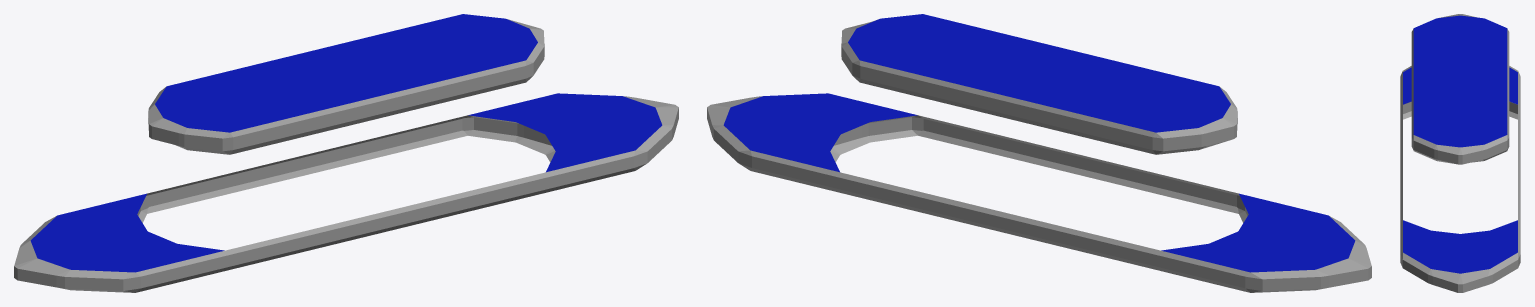
File: estadio.obj
The picture shows the model from 3 angles, left to right: view 1: azimuth 30°, elevation 25°; view 2: azimuth 150°, elevation 25°; view 3: azimuth 270°, elevation 25°; orthographic projection. The views are drawn at different scales.
Parts seen in each view (by area): view 1: Cube, Cube.001; view 2: Cube, Cube.001; view 3: Cube.001, Cube.
Part boxes in pixels (x1,y1,x2,y2): Cube: [14, 93, 678, 292]; Cube.001: [148, 14, 544, 154]; Cube: [707, 93, 1371, 292]; Cube.001: [841, 14, 1237, 154]; Cube.001: [1411, 14, 1509, 164]; Cube: [1400, 66, 1520, 292].
Size of the model in its own units: 15.65 by 2.94 by 3.34.
